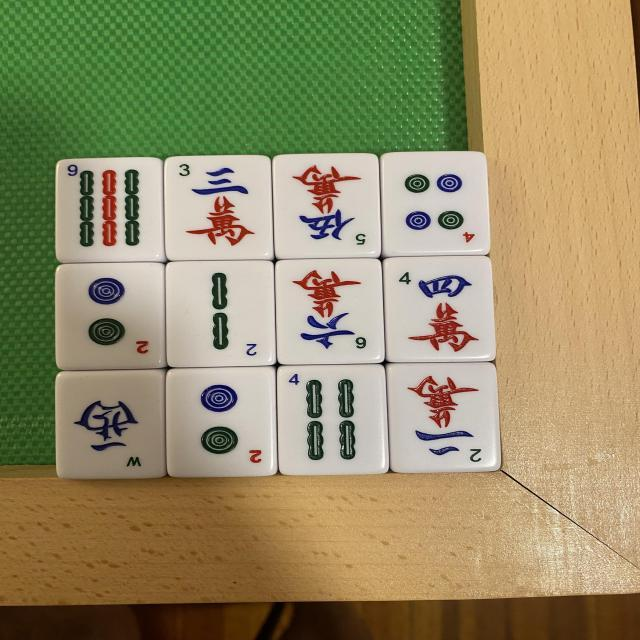hww: (59, 372, 166, 482)
sb2: (166, 258, 274, 366)
sb4: (280, 367, 390, 478)
sb9: (54, 160, 164, 262)
sc2: (386, 364, 499, 474)
sc3: (164, 157, 272, 262)
sc4: (383, 255, 492, 362)
sc5: (273, 154, 380, 258)
sc6: (274, 260, 382, 368)
sd2: (164, 368, 272, 478), (58, 258, 164, 366)
sd4: (383, 158, 489, 259)
